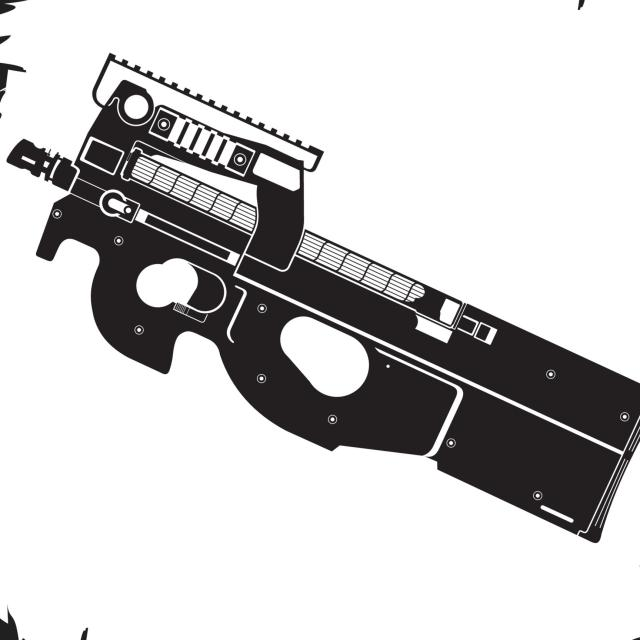Gun: (39, 26, 624, 550)
